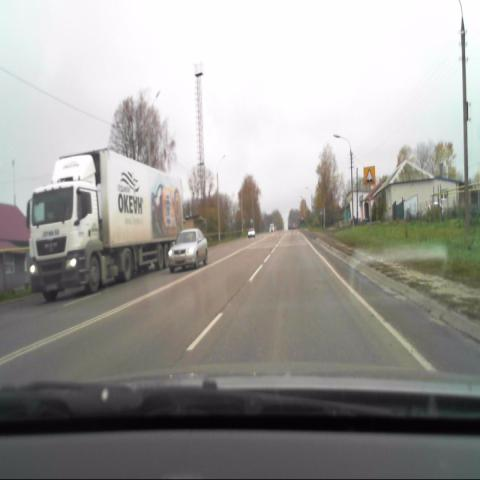1_16: (363, 165, 376, 185)
